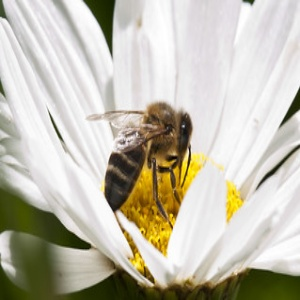bee: (81, 96, 196, 242)
